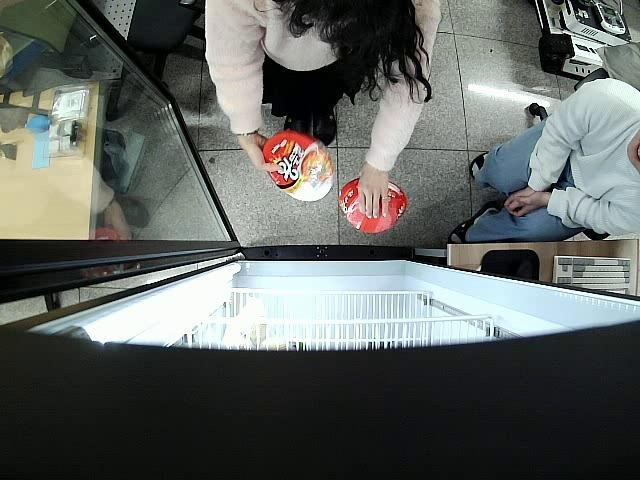10_wangTtukkeong: (264, 132, 334, 202), (339, 177, 408, 232)
